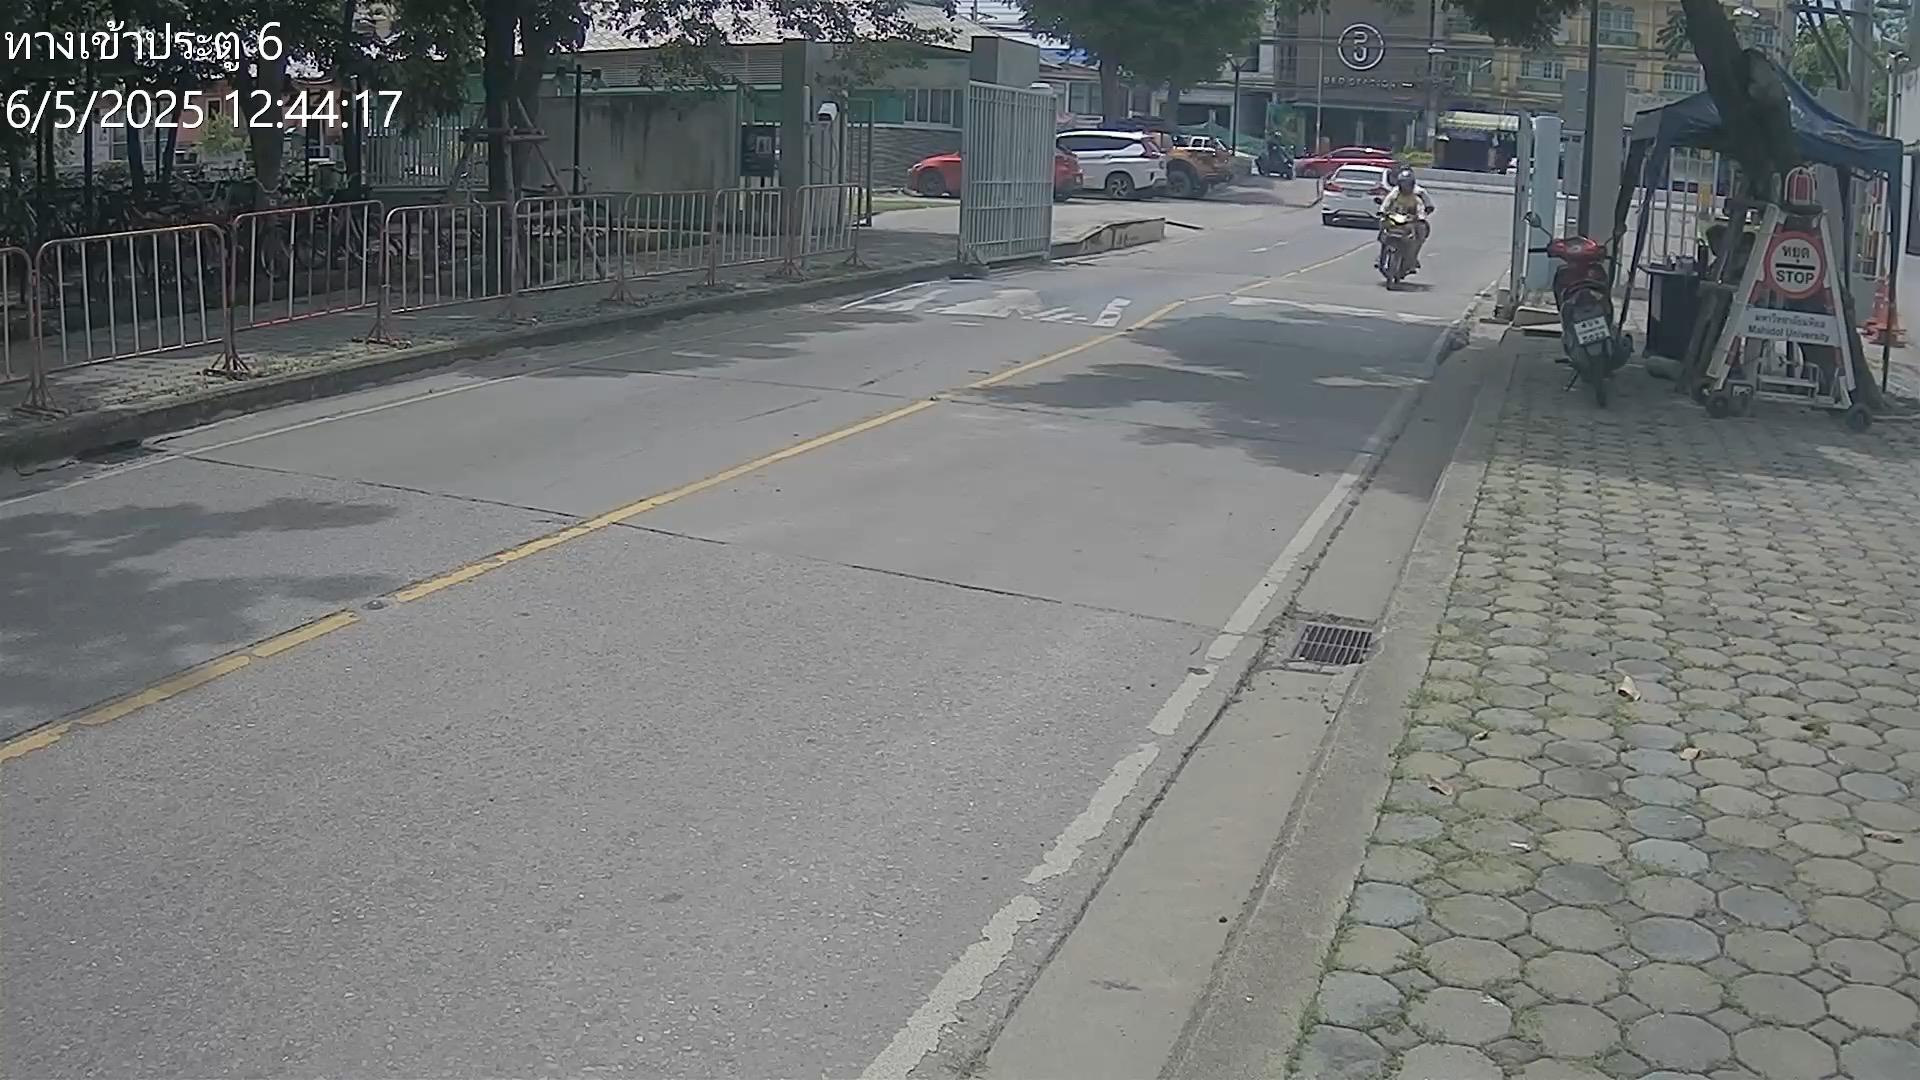With-Helmet: (1398, 170, 1416, 191)
